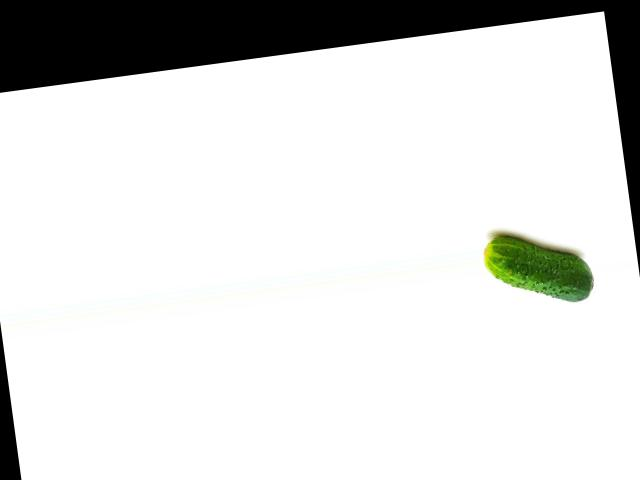cucumber: (481, 224, 595, 313)
